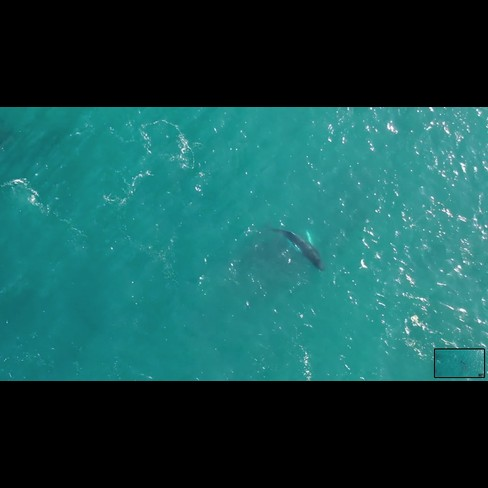hump: (270, 217, 334, 279)
